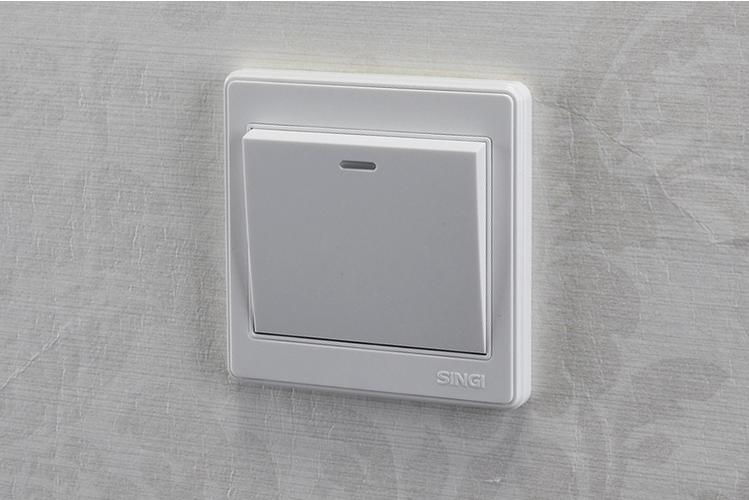button: (219, 70, 534, 409)
